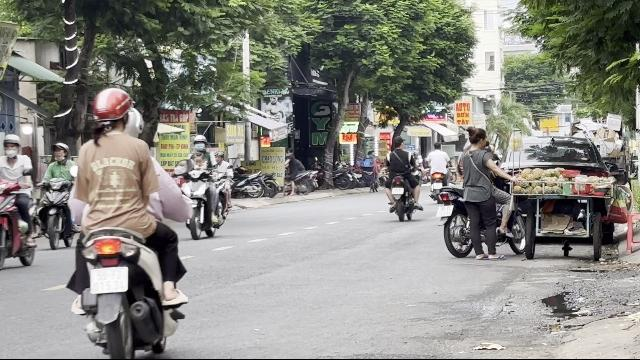helmet: (89, 88, 133, 136), (1, 134, 21, 158), (52, 141, 70, 161), (191, 134, 207, 154)
licenseplate: (90, 268, 128, 294), (437, 206, 453, 216)
motorcyclist: (61, 86, 195, 358), (172, 132, 234, 240), (0, 132, 38, 270)
